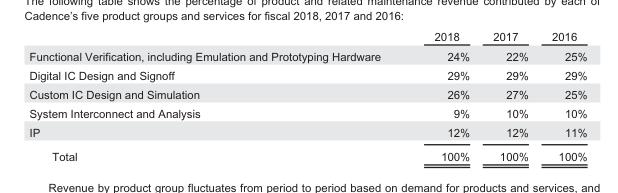table: (28, 29, 586, 161)
table column: (28, 29, 406, 161), (406, 29, 480, 161), (480, 29, 539, 161), (539, 29, 586, 161)
table column header: (28, 29, 586, 45)
table row: (28, 122, 586, 143), (28, 45, 586, 65), (28, 65, 586, 84), (28, 84, 586, 103), (28, 103, 586, 122), (28, 143, 586, 161), (28, 29, 586, 45)
